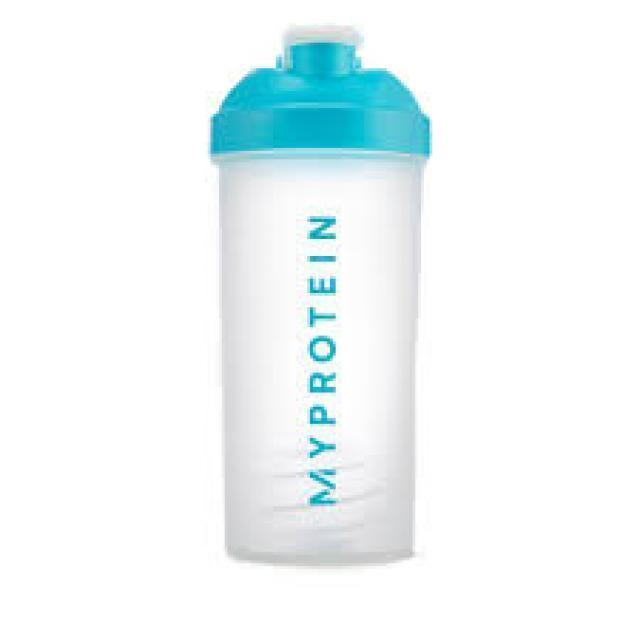Plastic: (202, 18, 433, 567)
